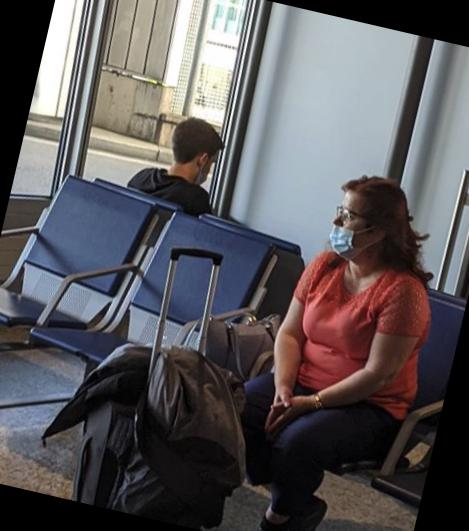mask_weared_incorrect: (316, 198, 372, 254)
